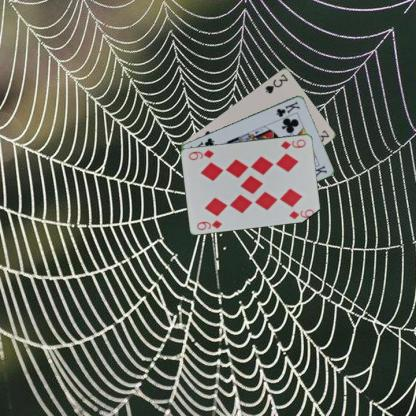3s: (263, 71, 289, 95)
9d: (194, 217, 224, 231), (278, 136, 307, 150)
Kc: (274, 99, 301, 118)
